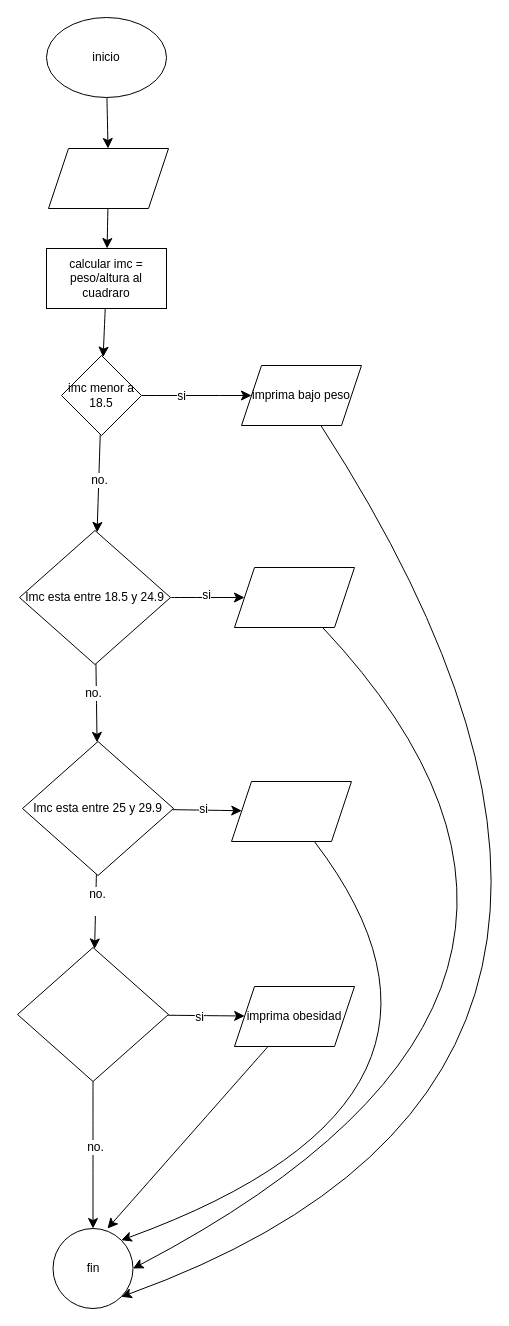
This 509x1326 diagram has some shape labels left out. Each missing label, with the box of its shape:
imc igual a 30: (16, 946, 168, 1082)
Imprima normal: (234, 566, 354, 628)
imprima sobrepeso: (230, 780, 352, 842)
ingrese peso(kg) altura(m): (48, 148, 168, 208)
